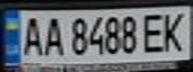4: (87, 14, 106, 56)
8: (118, 12, 142, 56), (66, 14, 90, 56), (103, 12, 124, 56)
A: (18, 14, 45, 57), (39, 14, 66, 57)
E: (139, 10, 169, 55)
K: (157, 9, 190, 54)
